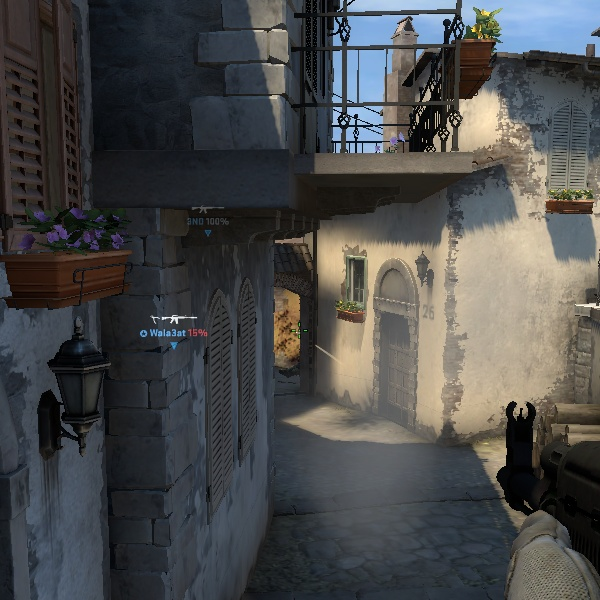ct_body: (407, 74, 457, 158)
